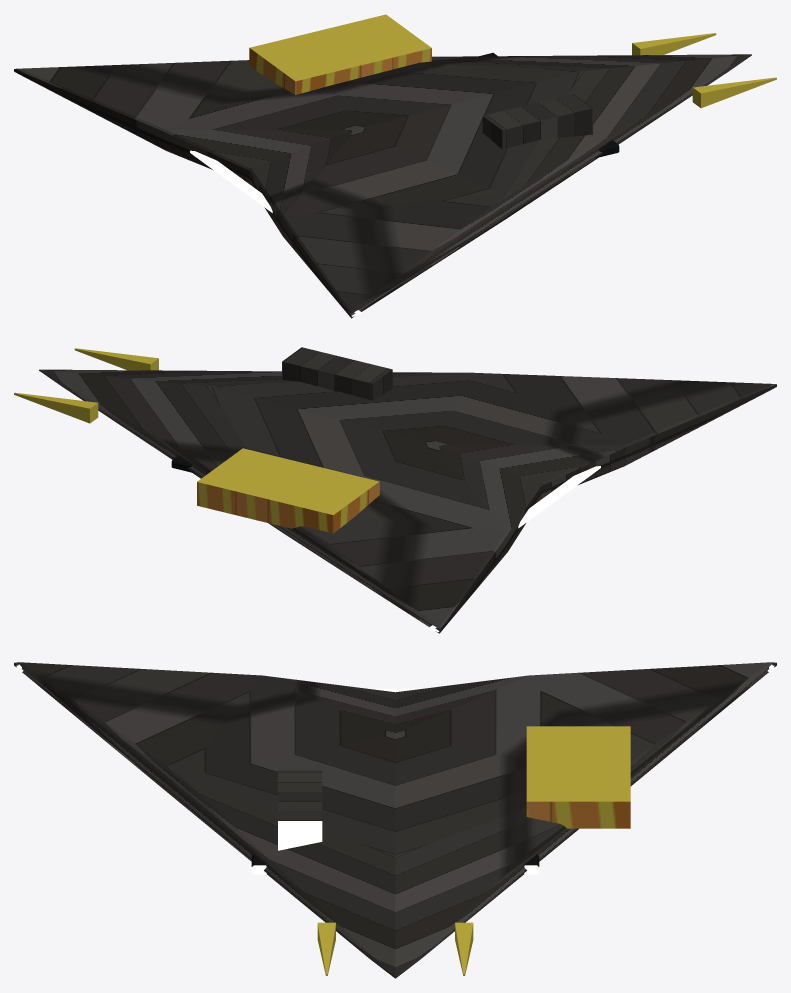
The model's file is raider.glb.
3 renders of one model, top to bottom at view 1: azimuth 30°, elevation 25°; view 2: azimuth 150°, elevation 25°; view 3: azimuth 270°, elevation 25°, orthographic. The views are drawn at different scales.
Parts seen in each view (by area): view 1: raider; view 2: raider; view 3: raider.
Boxes of the visible parts, x1,y1,x2,y2 form: raider: [14, 14, 776, 318]; raider: [14, 347, 776, 633]; raider: [14, 662, 776, 978].
Size of the model in its own units: 22 by 2.26 by 22.59.
1 material, 1 textured.
